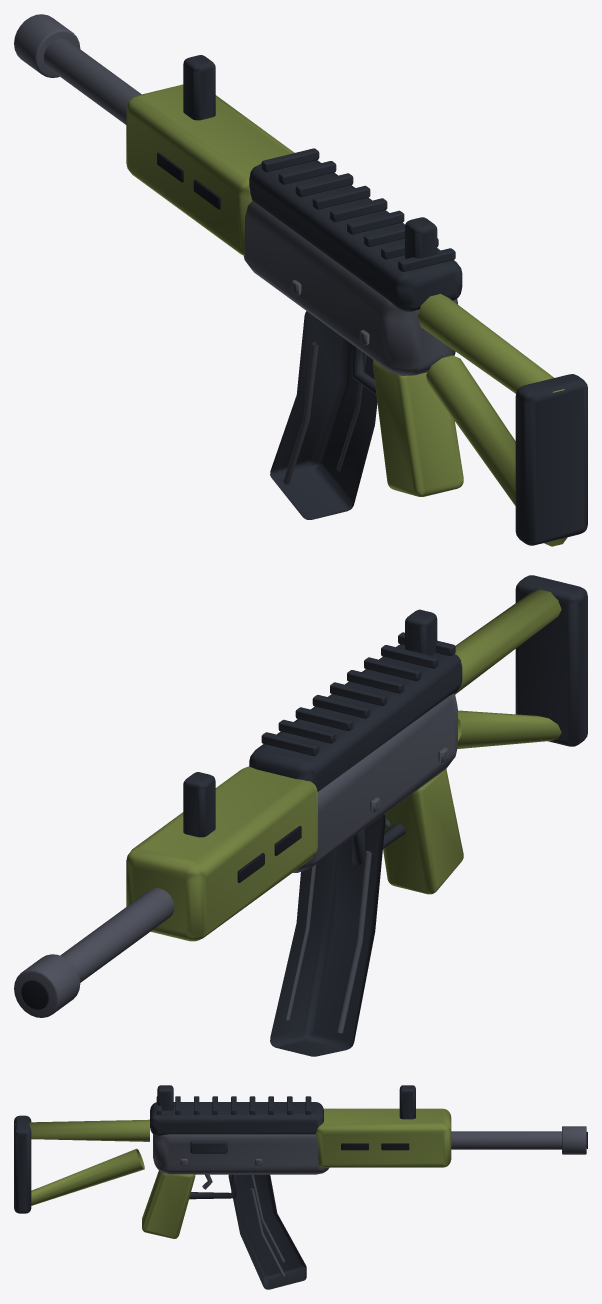
File: rifle.glb
3 views of the same model, one above another, from view 1: azimuth 30°, elevation 25°; view 2: azimuth 150°, elevation 25°; view 3: azimuth 270°, elevation 25° (orthographic). The views are drawn at different scales.
Visible parts, largest first — view 1: rifle-frame-olive furniture, rifle-frame-charcoal, rifle-frame-slate, rifle-magazine-charcoal, rifle-magazine-slate, rifle-frame-dark recess; view 2: rifle-frame-olive furniture, rifle-frame-charcoal, rifle-frame-slate, rifle-magazine-charcoal, rifle-magazine-slate, rifle-frame-dark recess; view 3: rifle-frame-olive furniture, rifle-frame-slate, rifle-frame-charcoal, rifle-magazine-charcoal, rifle-magazine-slate, rifle-slide-charcoal, rifle-frame-dark recess.
Boxes of the visible parts, box(x1,y1,x2,y2) form: rifle-frame-olive furniture: box(126, 84, 567, 546); rifle-frame-charcoal: box(183, 55, 587, 545); rifle-frame-slate: box(14, 14, 457, 375); rifle-magazine-charcoal: box(270, 311, 377, 519); rifle-magazine-slate: box(283, 342, 366, 484); rifle-frame-dark recess: box(157, 152, 220, 209); rifle-frame-olive furniture: box(126, 589, 561, 941); rifle-frame-charcoal: box(183, 575, 587, 865); rifle-frame-slate: box(14, 693, 457, 1017); rifle-magazine-charcoal: box(270, 814, 385, 1056); rifle-magazine-slate: box(286, 851, 371, 1033); rifle-frame-dark recess: box(21, 826, 301, 1009); rifle-frame-olive furniture: box(15, 1108, 451, 1238); rifle-frame-slate: box(153, 1126, 586, 1189); rifle-frame-charcoal: box(14, 1085, 415, 1213); rifle-magazine-charcoal: box(228, 1174, 306, 1289); rifle-magazine-slate: box(250, 1174, 285, 1276); rifle-slide-charcoal: box(190, 1140, 227, 1153); rifle-frame-dark recess: box(341, 1132, 587, 1150).
Bounding box in the file's own units: 0.0885 × 0.3511 × 0.924.
